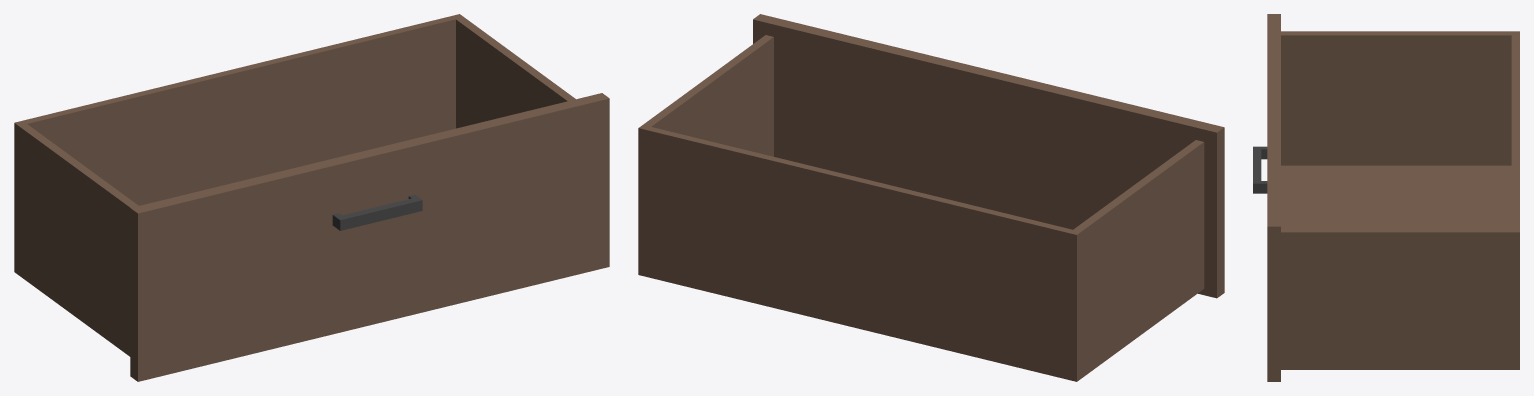
The model's file is BathroomDoor_C2_08.fbx.
3 renders of one model, left to right at view 1: azimuth 30°, elevation 25°; view 2: azimuth 150°, elevation 25°; view 3: azimuth 270°, elevation 25°, orthographic. The views are drawn at different scales.
Parts seen in each view (by area): view 1: BathroomDoor_C2_08; view 2: BathroomDoor_C2_08; view 3: BathroomDoor_C2_08.
Part boxes in pixels (bbox=[...]): BathroomDoor_C2_08: bbox=[14, 14, 609, 381]; BathroomDoor_C2_08: bbox=[638, 14, 1224, 381]; BathroomDoor_C2_08: bbox=[1253, 14, 1519, 381].
Size of the model in its own units: 90 by 30.7 by 47.76.
